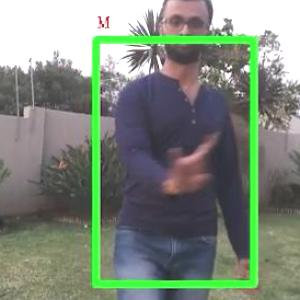takeoff-hand: (166, 132, 224, 192)
